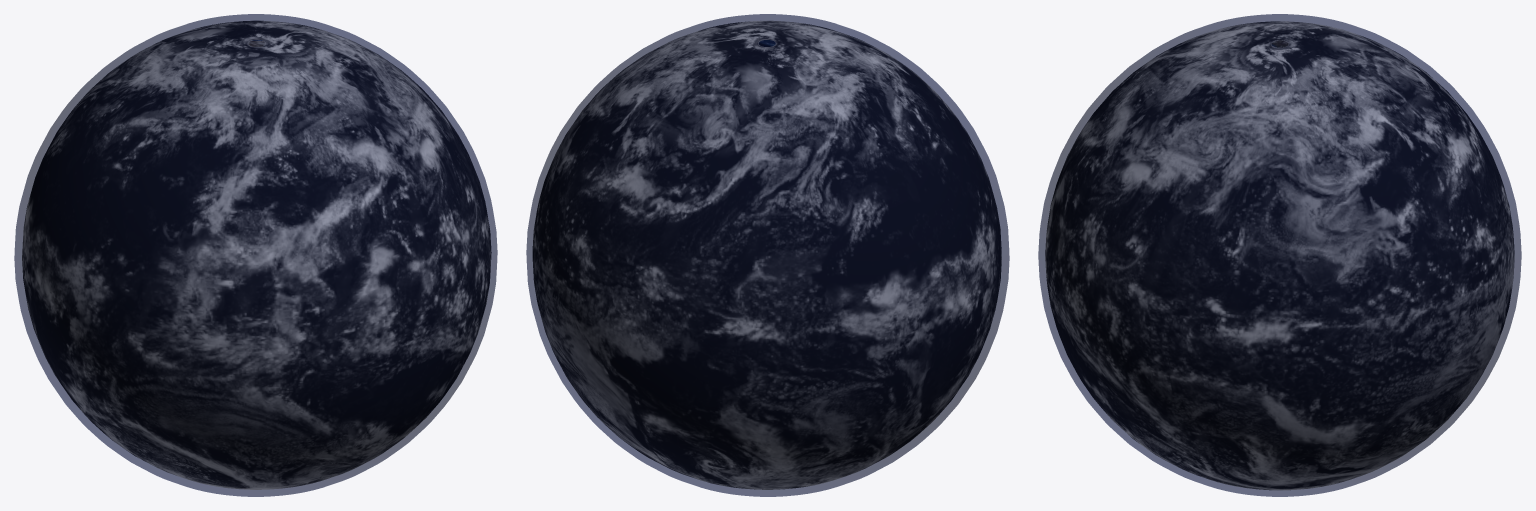
The model's file is earth.obj.
3 views of the same model, side by side, from view 1: azimuth 30°, elevation 25°; view 2: azimuth 150°, elevation 25°; view 3: azimuth 270°, elevation 25° (orthographic).
Visible parts, largest first — view 1: Atmosphere_Sphere.002, Clouds_Sphere.001; view 2: Atmosphere_Sphere.002, Clouds_Sphere.001; view 3: Atmosphere_Sphere.002, Clouds_Sphere.001.
Part boxes in pixels (x1,y1,x2,y2): Atmosphere_Sphere.002: [14, 14, 497, 496]; Clouds_Sphere.001: [22, 20, 491, 489]; Atmosphere_Sphere.002: [526, 14, 1009, 496]; Clouds_Sphere.001: [532, 20, 1001, 489]; Atmosphere_Sphere.002: [1038, 14, 1521, 496]; Clouds_Sphere.001: [1045, 21, 1514, 490].
Bounding box in the file's own units: 2.1 × 2.1 × 2.1.
3 materials, 2 textured.
